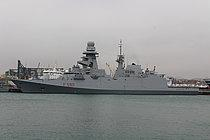MIL_Ship: (8, 38, 203, 96)
